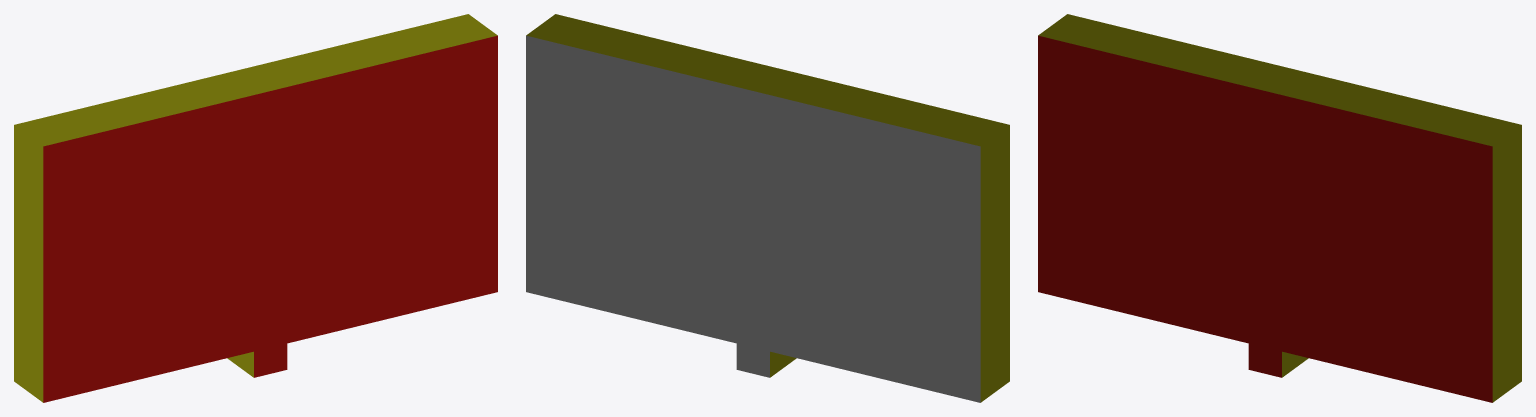
The model's file is idf.obj.
3 views of the same model, side by side, from view 1: azimuth 30°, elevation 25°; view 2: azimuth 150°, elevation 25°; view 3: azimuth 330°, elevation 25° (orthographic).
Size of the model in its own units: 54.27 by 32.27 by 6.1.
